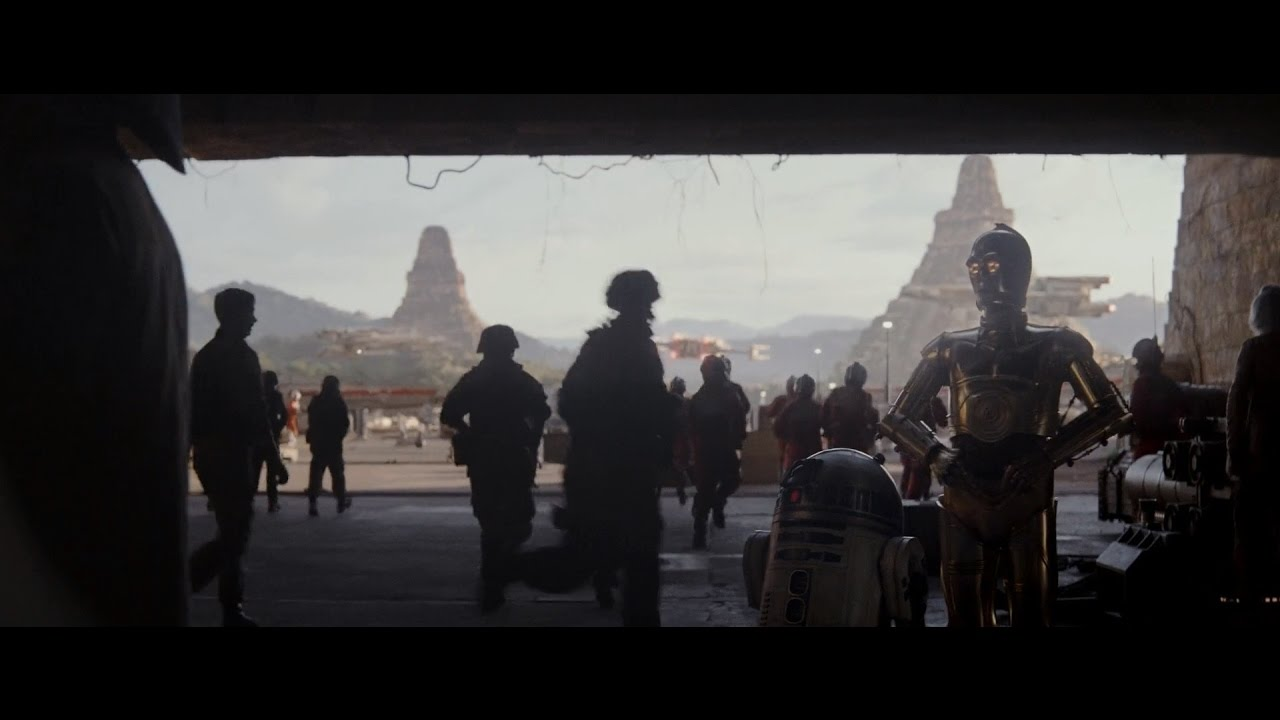r2d2: (742, 448, 928, 624)
